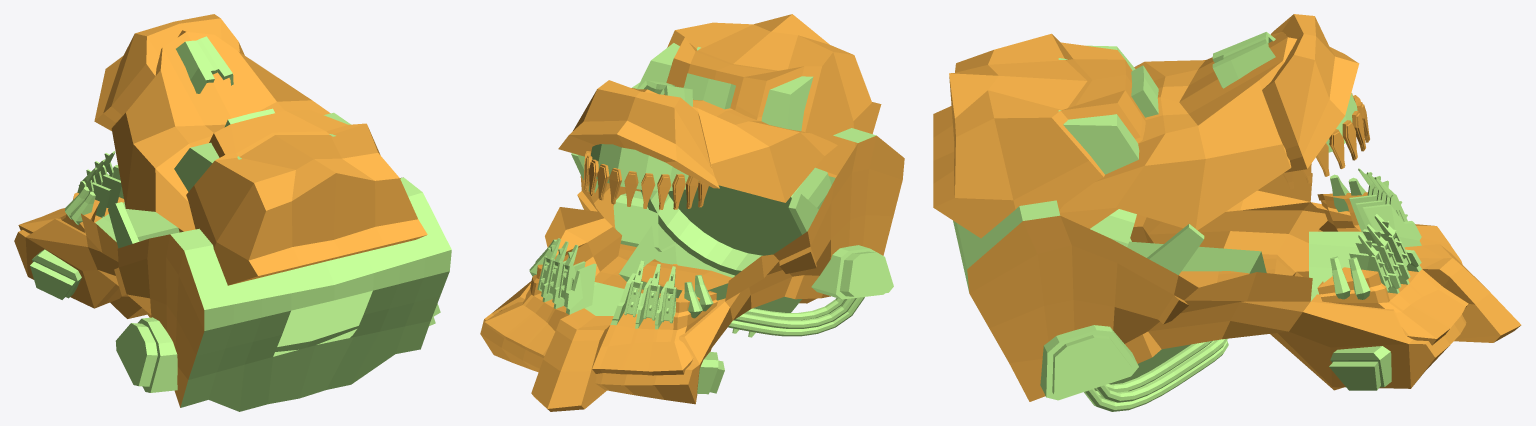
The model's file is REX_Face.fbx.
3 views of the same model, side by side, from view 1: azimuth 30°, elevation 25°; view 2: azimuth 150°, elevation 25°; view 3: azimuth 270°, elevation 25° (orthographic). The views are drawn at different scales.
Visible parts, largest first — view 1: REX_GEO:C_Jaw_GEO, REX_GEO:C_Head_GEO; view 2: REX_GEO:C_Jaw_GEO, REX_GEO:C_Head_GEO; view 3: REX_GEO:C_Jaw_GEO, REX_GEO:C_Head_GEO.
Part boxes in pixels (<box>): REX_GEO:C_Jaw_GEO: <box>14,151,451,411</box>; REX_GEO:C_Head_GEO: <box>94,14,427,285</box>; REX_GEO:C_Jaw_GEO: <box>480,82,904,411</box>; REX_GEO:C_Head_GEO: <box>558,14,881,209</box>; REX_GEO:C_Jaw_GEO: <box>953,168,1521,411</box>; REX_GEO:C_Head_GEO: <box>933,14,1369,238</box>.
Bounding box in the file's own units: 801 × 764 × 1193.
